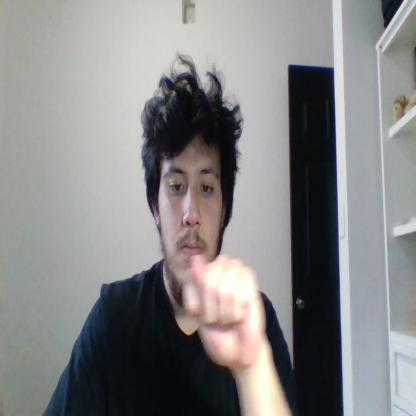T: (184, 252, 266, 368)
